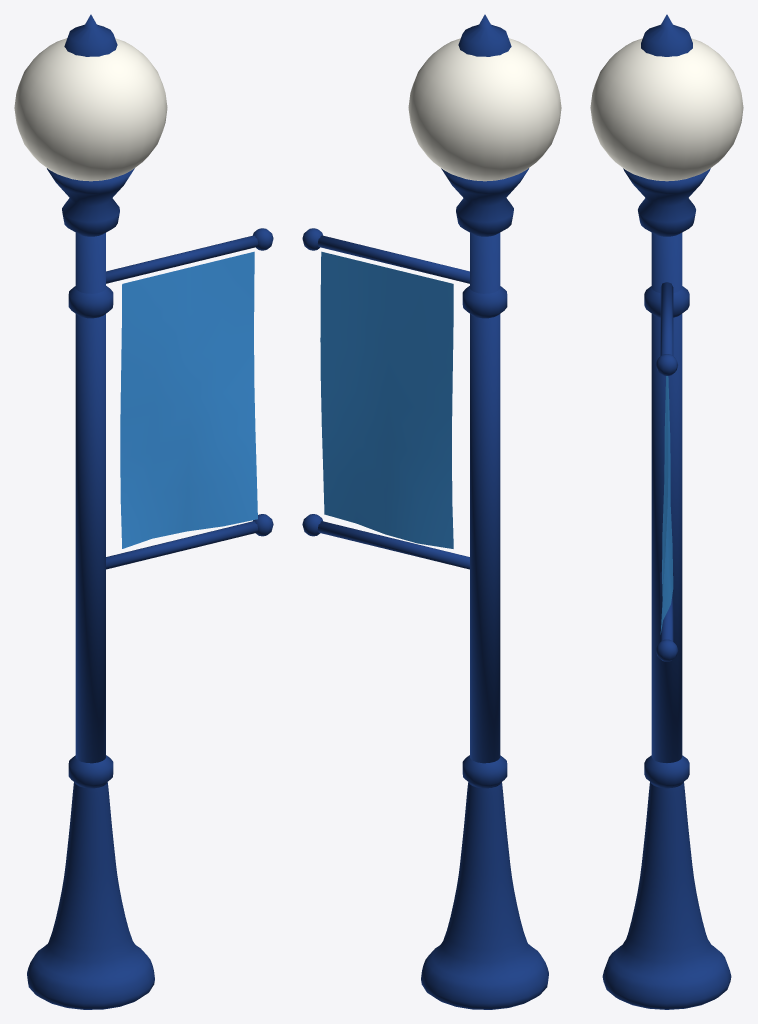
The model's file is lamp_post.glb.
3 renders of one model, left to right at view 1: azimuth 30°, elevation 25°; view 2: azimuth 150°, elevation 25°; view 3: azimuth 270°, elevation 25°, orthographic.
Parts seen in each view (by area): view 1: lamp_post; view 2: lamp_post; view 3: lamp_post.
Boxes of the visible parts, box(x1,y1,x2,y2) form: lamp_post: box(14, 14, 273, 1009); lamp_post: box(302, 14, 561, 1009); lamp_post: box(590, 14, 743, 1009).
Bounding box in the file's own units: 1.27 × 4.77 × 0.68.
